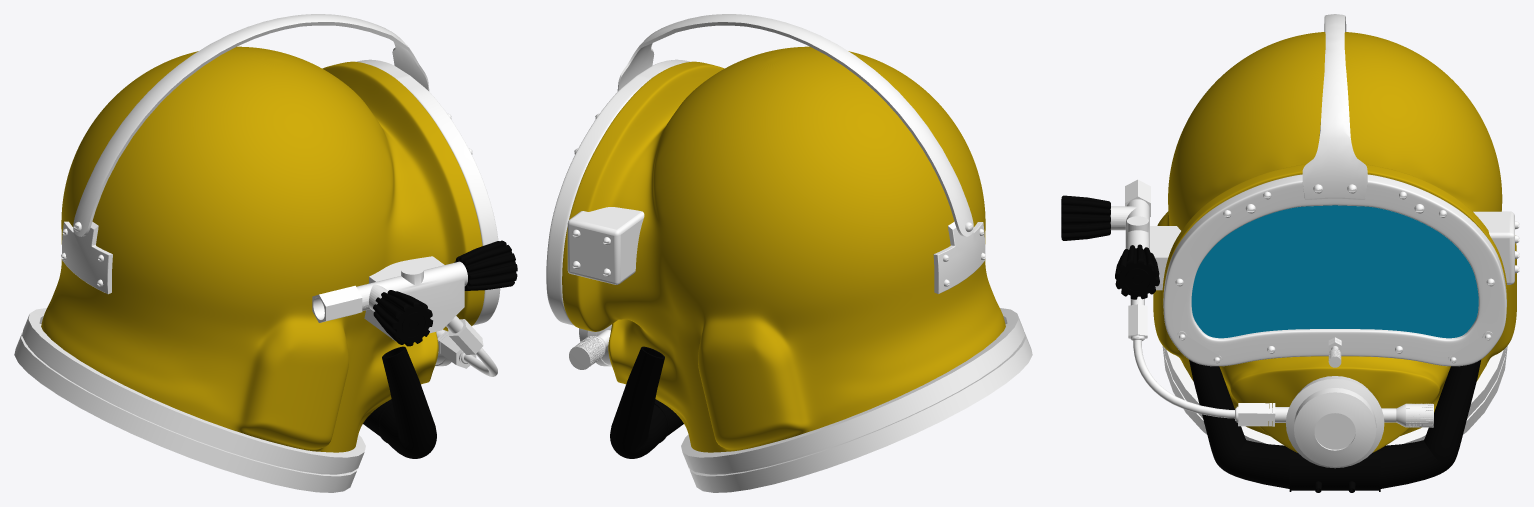
File: diving_helmet.fbx
The picture shows the model from 3 angles, left to right: view 1: azimuth 30°, elevation 25°; view 2: azimuth 150°, elevation 25°; view 3: azimuth 270°, elevation 25°; orthographic projection. The views are drawn at different scales.
Parts seen in each view (by area): view 1: main, matal, rubber; view 2: main, matal, rubber; view 3: main, matal, glass, rubber.
Boxes of the visible parts, x1=… form: main: x1=41, y1=46, x2=484, y2=452; matal: x1=14, y1=14, x2=500, y2=492; rubber: x1=363, y1=240, x2=517, y2=458; main: x1=562, y1=46, x2=1005, y2=452; matal: x1=546, y1=14, x2=1032, y2=492; rubber: x1=610, y1=346, x2=683, y2=458; main: x1=1153, y1=32, x2=1516, y2=452; matal: x1=1110, y1=14, x2=1519, y2=468; glass: x1=1191, y1=205, x2=1478, y2=338; rubber: x1=1061, y1=195, x2=1480, y2=492.
Size of the model in its own units: 268 by 276 by 273.
